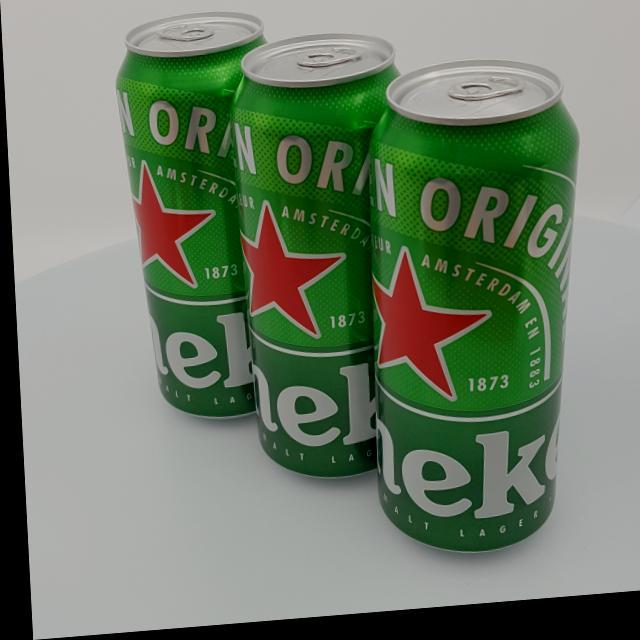beer-can: (354, 60, 593, 566), (224, 33, 425, 489), (111, 10, 291, 429)
